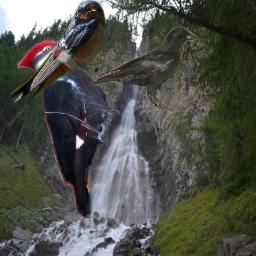Crow: (88, 26, 197, 111)
Swallow: (6, 0, 106, 127)
Woodpecker: (17, 34, 120, 219)
